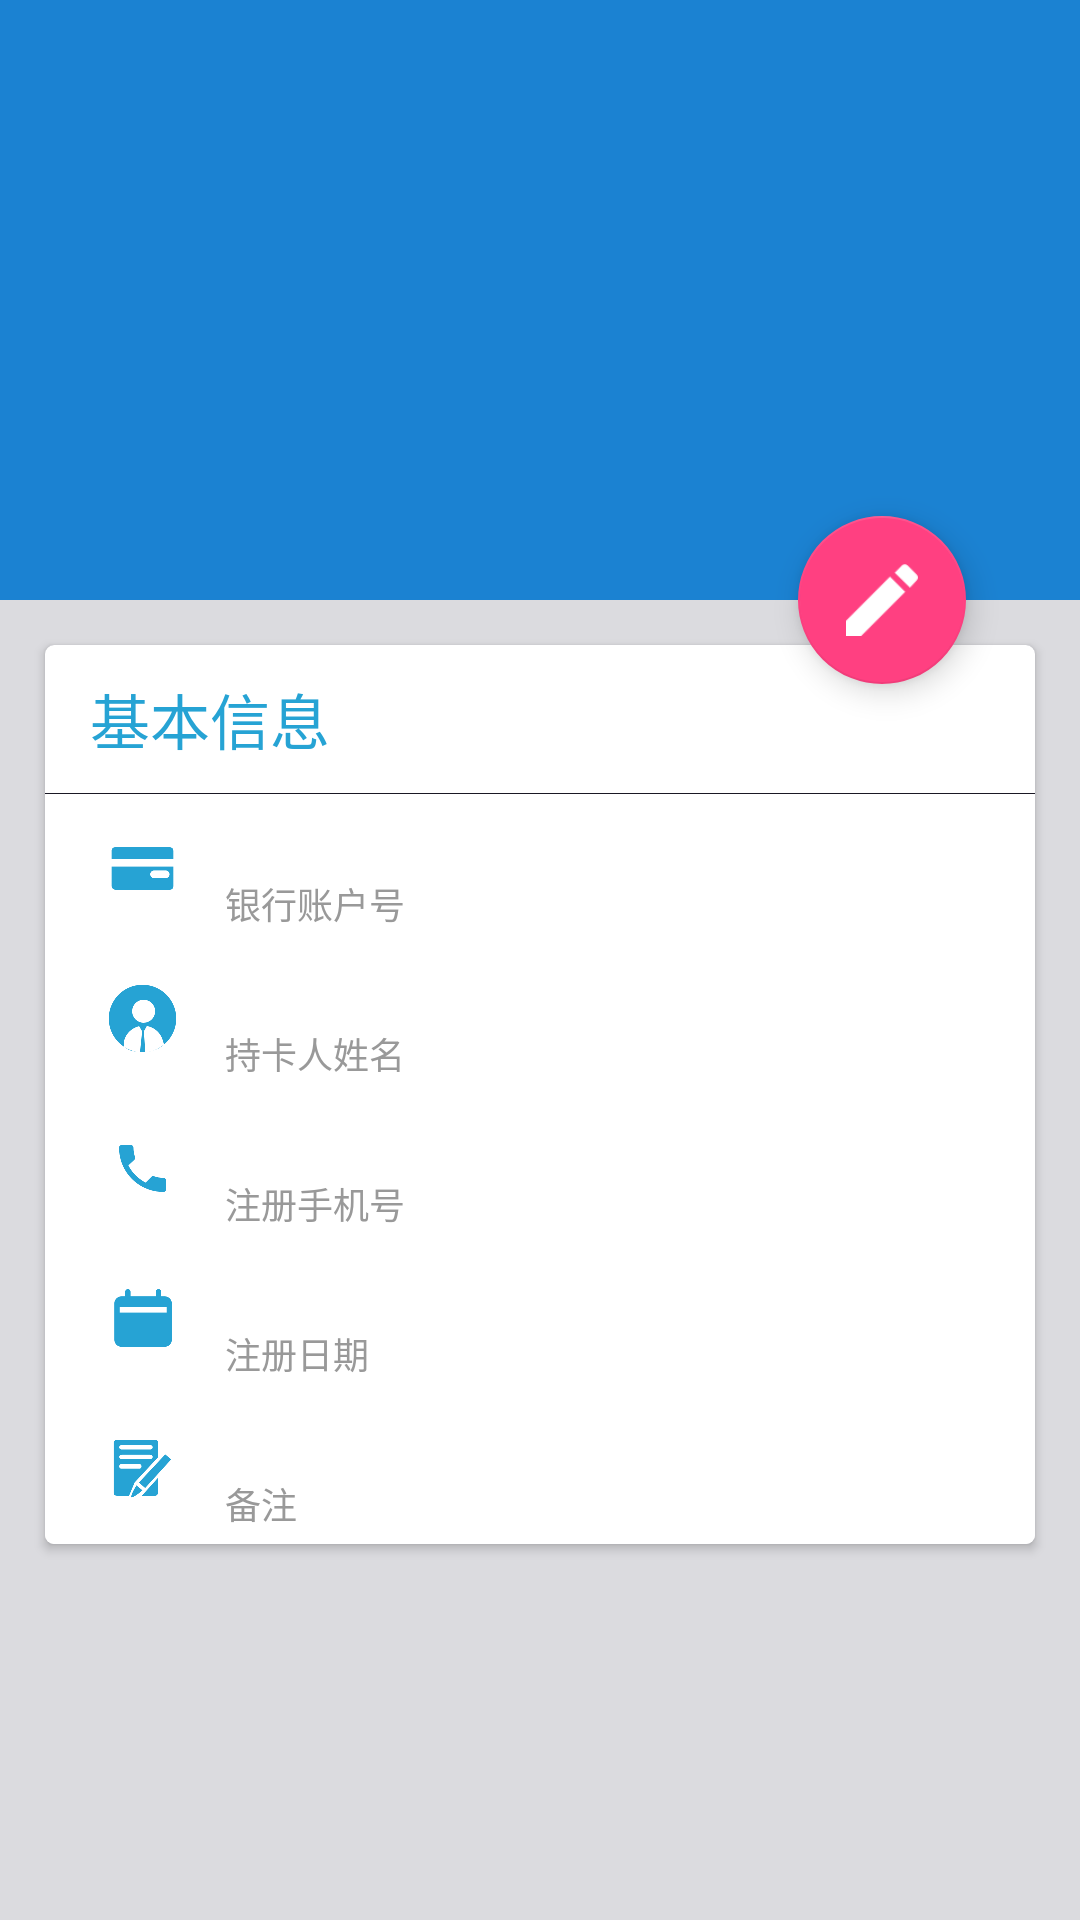

Icon click points for this 1080px×1920px phone screenshot, format (x,y):
beizhu: (142,1468)
password yonghu: (142,1018)
phone: (142,1168)
rili: (143,1318)
xiugai: (882,600)
